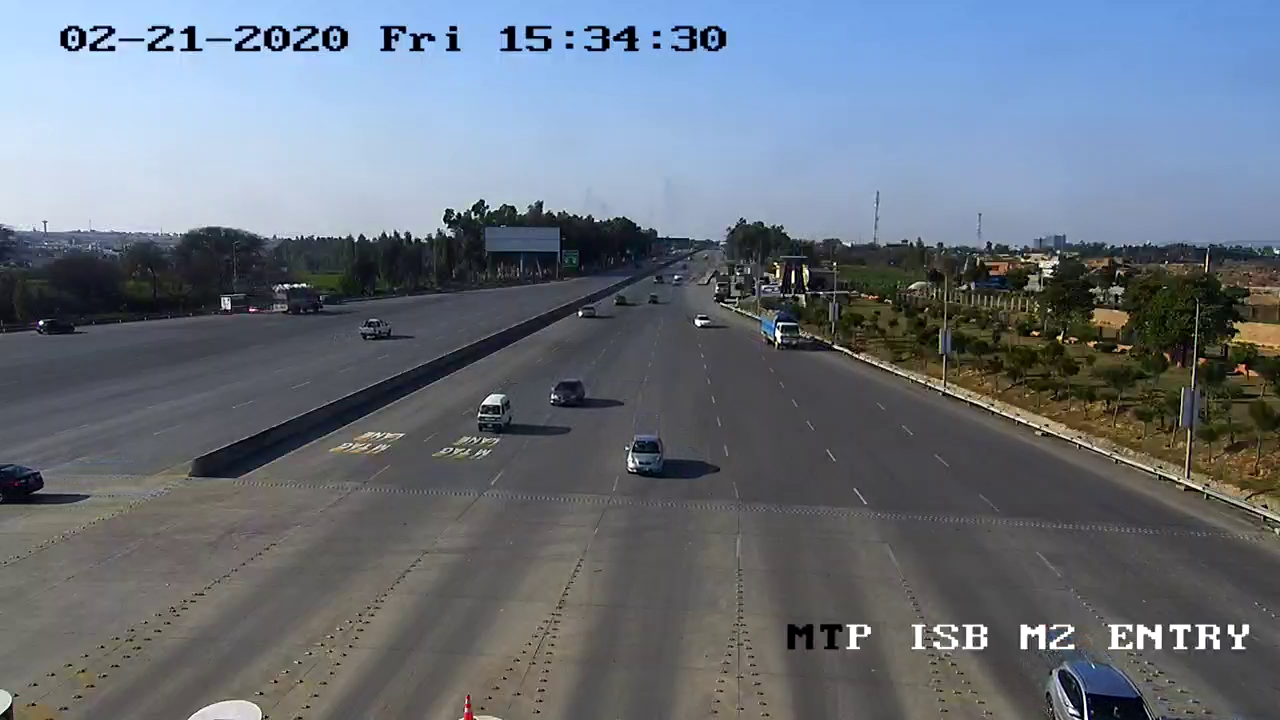f1: (605, 426, 679, 491), (460, 386, 524, 443), (543, 369, 599, 417)
